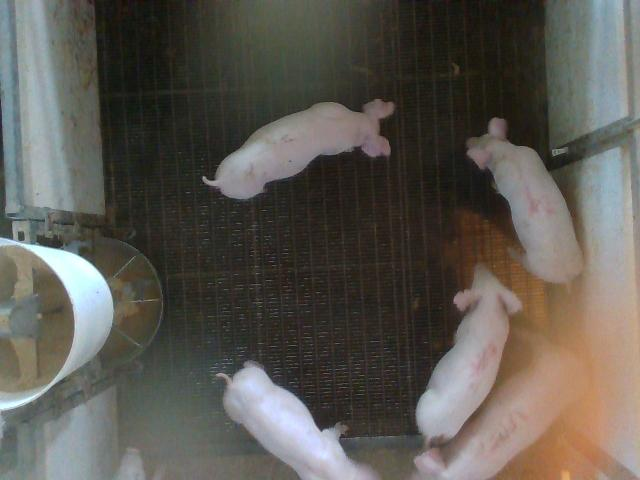pig-3: (415, 338, 588, 479)
pig-4: (466, 118, 582, 282)
pig-5: (416, 264, 521, 444)
